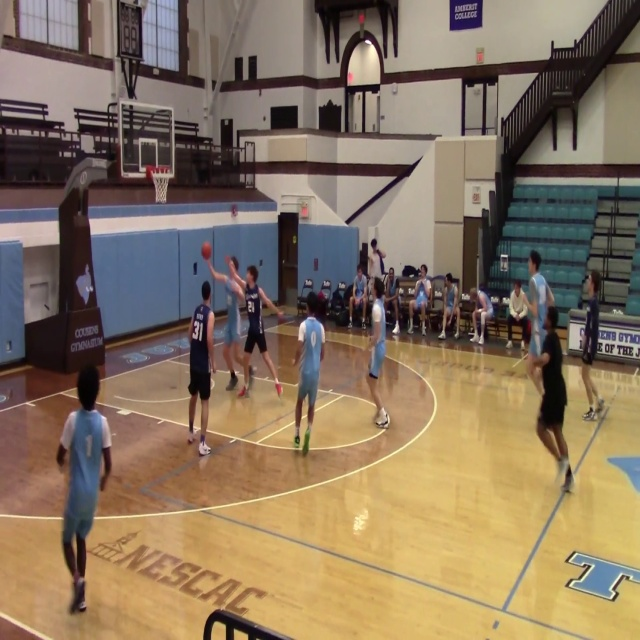Basketball: (201, 241, 212, 259)
